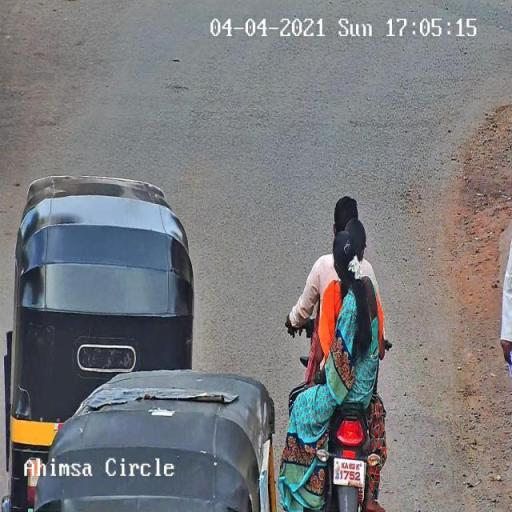tripple riding: (284, 190, 400, 392)
